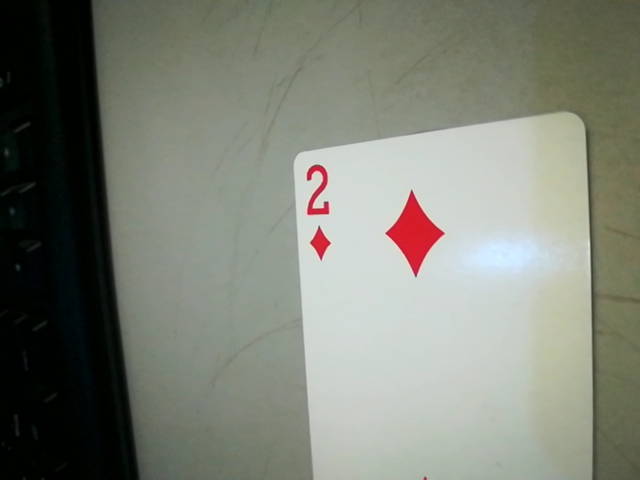fk 2: (291, 153, 348, 269)
